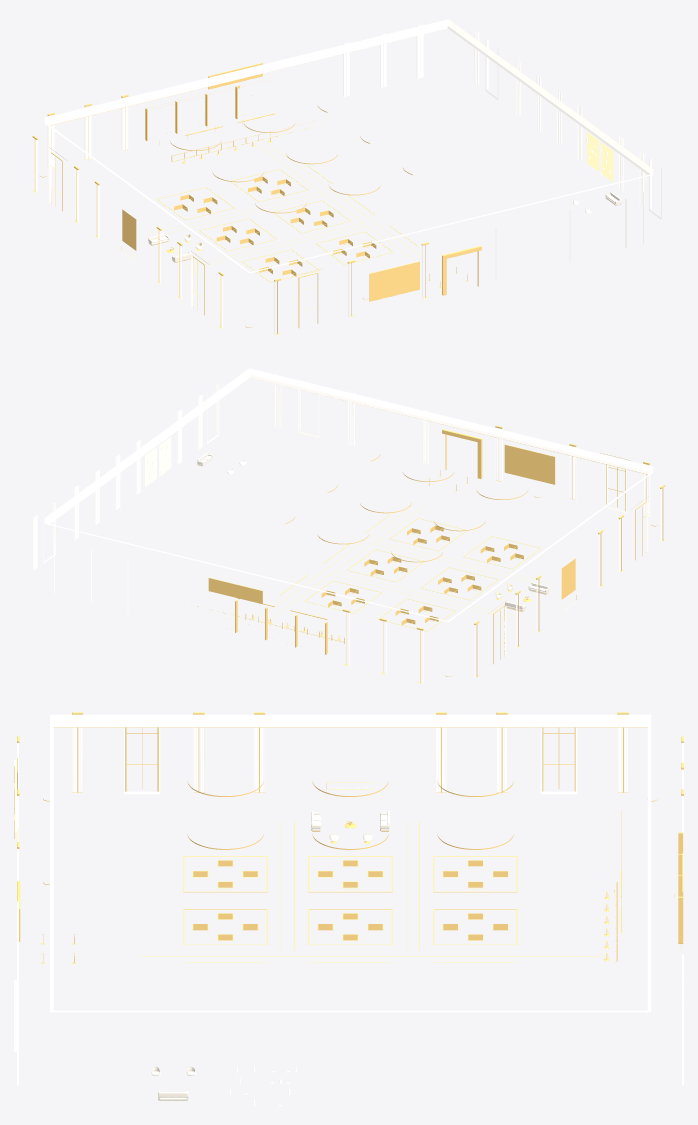
File: tb_lounge2_p1.glb
3 renders of one model, top to bottom at view 1: azimuth 30°, elevation 25°; view 2: azimuth 150°, elevation 25°; view 3: azimuth 270°, elevation 25°, orthographic. The views are drawn at different scales.
Parts seen in each view (by area): view 1: tb_lounge_p1; view 2: tb_lounge_p1; view 3: tb_lounge_p1.
Part boxes in pixels (x1,y1,x2,y2): tb_lounge_p1: (32, 19, 661, 334); tb_lounge_p1: (33, 368, 665, 683); tb_lounge_p1: (14, 712, 683, 1106).
Bounding box in the file's own units: 72.6 × 11.09 × 64.3.
Materials: 6 (1 with a texture image).
